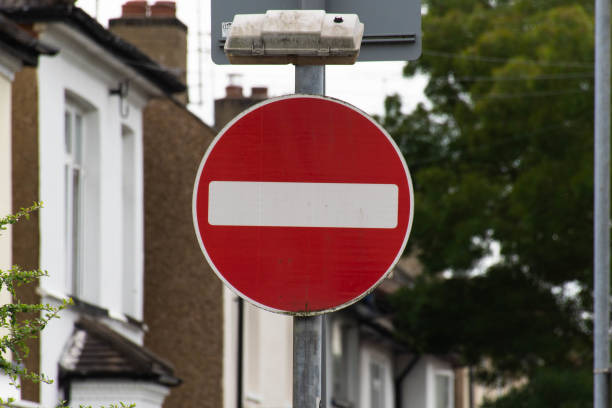Girilmez: (190, 92, 414, 317)
